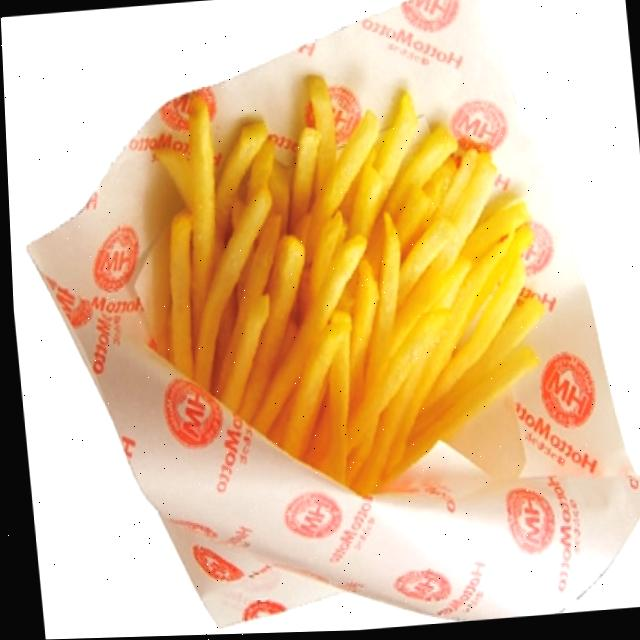炸货点心: (4, 0, 640, 640)
